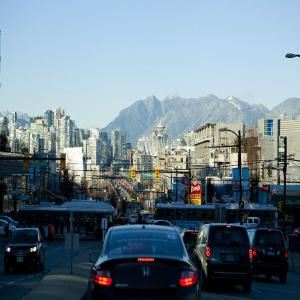Vehicle-registration-plate: (16, 257, 25, 264)
